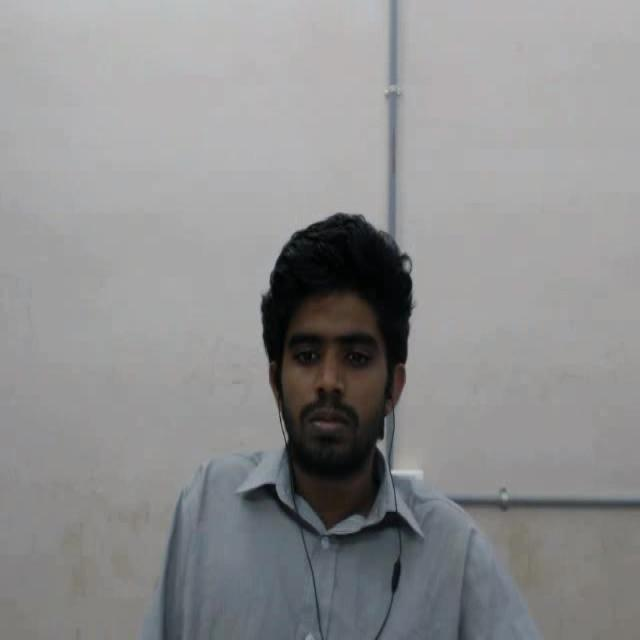Engaged: (245, 184, 463, 525)
